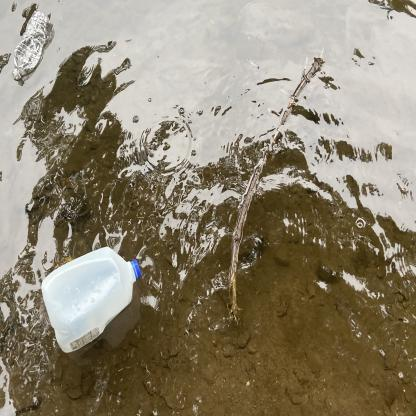trash: (38, 242, 146, 360), (6, 8, 56, 86)
